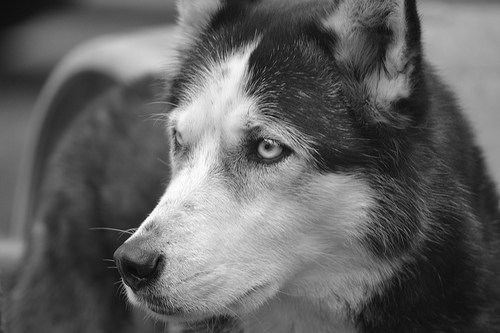dog: (88, 1, 499, 332)
